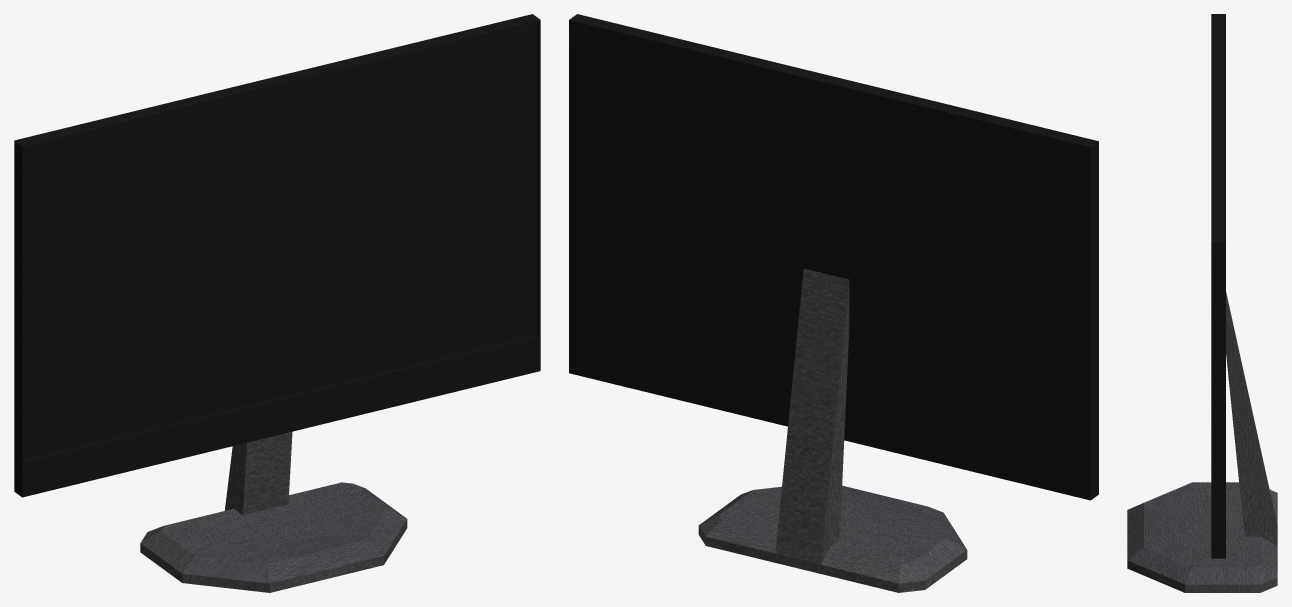
The model's file is 05_monitor2_destructible_smallfragments.glb.
3 renders of one model, left to right at view 1: azimuth 30°, elevation 25°; view 2: azimuth 150°, elevation 25°; view 3: azimuth 270°, elevation 25°, orthographic. The views are drawn at different scales.
Parts seen in each view (by area): view 1: Display_Assembly_fragment_2, Support_Column_fragment_2; view 2: Display_Assembly_fragment_2, Support_Column_fragment_2; view 3: Support_Column_fragment_2, Display_Assembly_fragment_2.
Part boxes in pixels (bbox=[...]): Display_Assembly_fragment_2: bbox=[14, 14, 540, 497]; Support_Column_fragment_2: bbox=[140, 431, 407, 592]; Display_Assembly_fragment_2: bbox=[569, 14, 1098, 500]; Support_Column_fragment_2: bbox=[698, 268, 967, 592]; Support_Column_fragment_2: bbox=[1127, 292, 1277, 592]; Display_Assembly_fragment_2: bbox=[1211, 14, 1225, 558].
Size of the model in its own units: 0.5433 by 0.462 by 0.1516.
3 materials, 3 textured.
